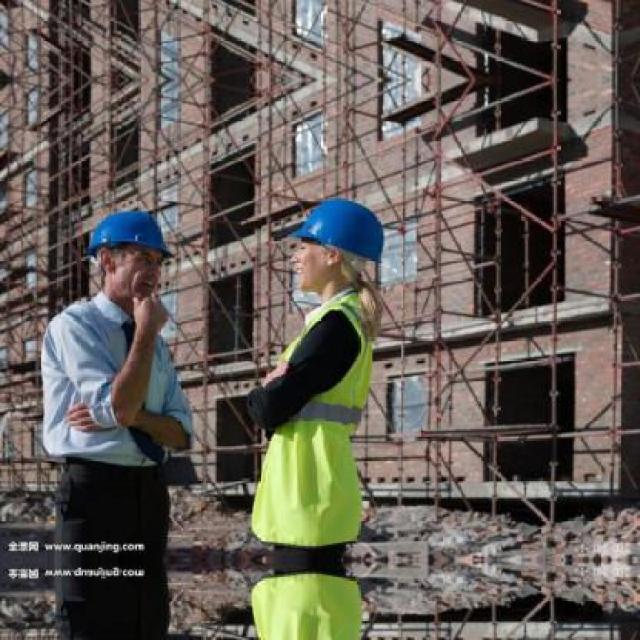helmet: (286, 187, 392, 302), (83, 201, 179, 307)
